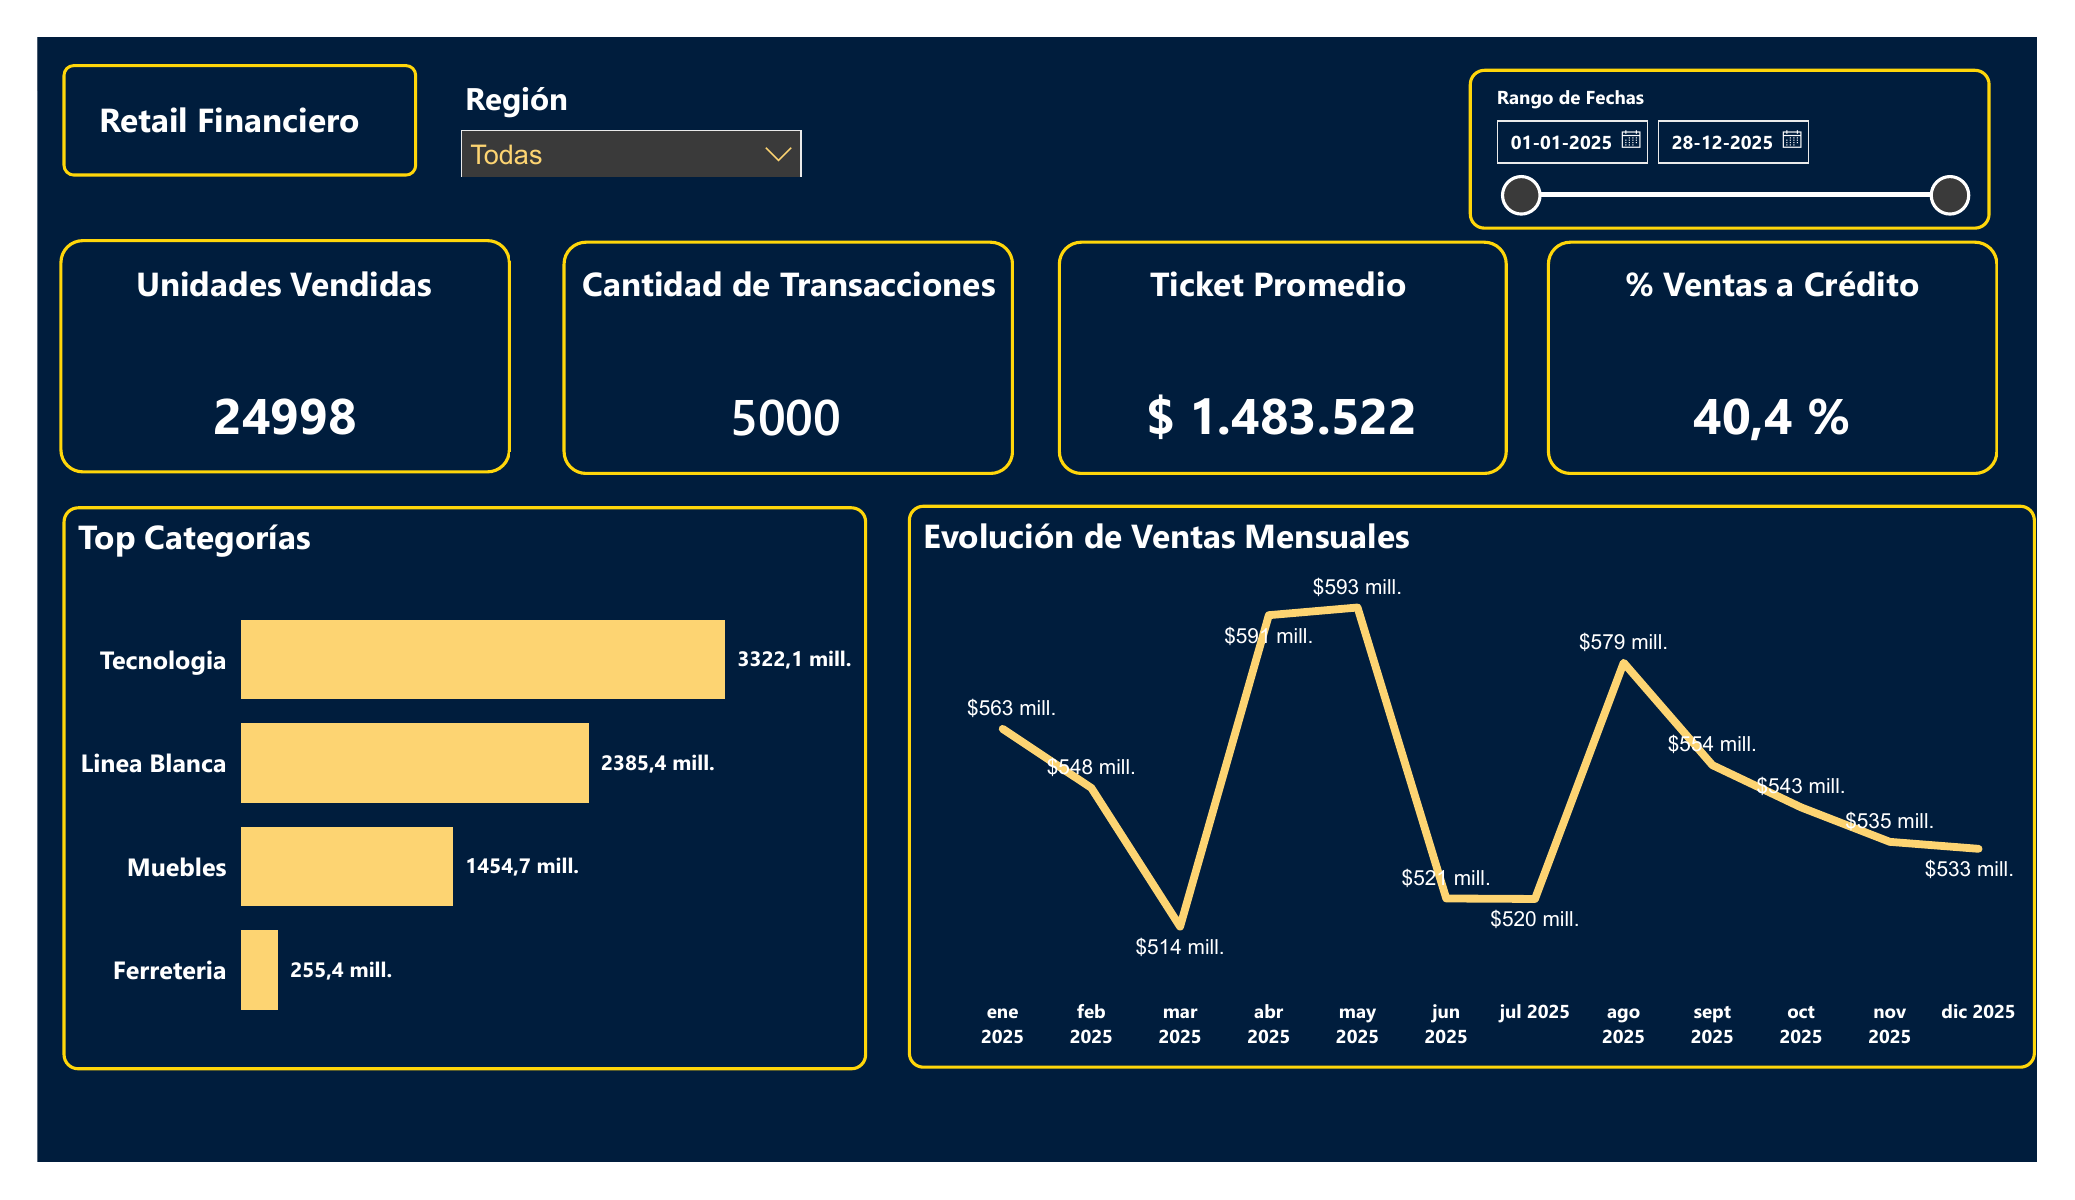

The dashboard page shown, as its layout file describes it:
{"tool":"powerbi","page":{"name":"Detalle de Ventas","canvas":[1280,720],"ordinal":1},"visuals":[{"type":"slicer","fields":{"Values":["retail_financiero locales.region"]},"box":[261.4,20.3,237.9,68.9],"z":0},{"type":"shape","box":[965.5,129.6,289,149.8],"z":0,"group":"g4"},{"type":"shape","box":[15.7,17.2,227,72],"z":1000},{"type":"textbox","box":[28.2,32.9,189.4,43.8],"z":2000},{"type":"group","id":"g1","title":"Grupo 1","box":[13.9,128.9,288.9,150],"z":3000},{"type":"group","id":"g2","title":"Grupo 2","box":[336.4,130,288.9,150],"z":4000},{"type":"shape","box":[652.5,129.6,288.1,149.8],"z":4500,"group":"g3"},{"type":"group","id":"g3","title":"Grupo 3","box":[652.5,129.6,288.1,149.8],"z":5000},{"type":"shape","box":[13.9,128.9,288.9,150],"z":5500,"group":"g1"},{"type":"group","id":"g4","title":"Grupo 4","box":[965.5,129.6,289,149.8],"z":6000},{"type":"slicer","fields":{"Values":["Calendario.Date"]},"box":[915.8,20.2,334.5,102.7],"z":7000},{"type":"cardVisual","fields":{"Data":["_Medidas.ticket promedio"]},"box":[677.5,199.7,238.1,79.7],"z":8000},{"type":"cardVisual","fields":{"Data":["Sum(retail_financiero detalle_transacciones.cantidad)"]},"box":[76.7,199.2,163.2,79.7],"z":9000},{"type":"shape","box":[336.4,130,288.9,150],"z":9500,"group":"g2"},{"type":"cardVisual","fields":{"Data":["_Medidas.Cantidad de Transacciones"]},"box":[394,200.3,170,79.7],"z":10000},{"type":"cardVisual","fields":{"Data":["_Medidas.% Ventas a Crédito"]},"box":[1013.2,199.2,193.7,80.2],"z":11000},{"type":"textbox","box":[52.2,137.8,212.2,52.2],"z":12000},{"type":"textbox","box":[332,138.3,297.7,51.9],"z":13000},{"type":"textbox","box":[667.8,137.8,257.8,52.2],"z":14000},{"type":"textbox","box":[1001.6,138.3,217,51.9],"z":15000},{"type":"clusteredBarChart","title":"Top Categorías","fields":{"Category":["retail_financiero productos.categoria"],"Y":["_Medidas.Total Vendido Por Categoría"]},"box":[15.6,300,515.6,361.1],"z":16000},{"type":"lineChart","title":"Evolución de Ventas Mensuales","fields":{"Y":["Sum(retail_financiero vw_transacciones_limpias.monto_total)"],"Category":["Calendario.MesAño"]},"box":[557,299.1,721.9,361],"z":17000}]}

Visuals, with their boxes on the page's 1280x720 design canvas (x1, y1, x2, y2). These are canvas units, not pixel positions in the 2075x1200 screenshot, which may show the page scaled, cropped or inside an application window:
slicer - retail_financiero locales.region: bbox=[261, 20, 499, 89]
shape: bbox=[966, 130, 1254, 279]
shape: bbox=[16, 17, 243, 89]
textbox: bbox=[28, 33, 218, 77]
"Grupo 1" group: bbox=[14, 129, 303, 279]
"Grupo 2" group: bbox=[336, 130, 625, 280]
shape: bbox=[652, 130, 941, 279]
"Grupo 3" group: bbox=[652, 130, 941, 279]
shape: bbox=[14, 129, 303, 279]
"Grupo 4" group: bbox=[966, 130, 1254, 279]
slicer - Calendario.Date: bbox=[916, 20, 1250, 123]
cardVisual - _Medidas.ticket promedio: bbox=[678, 200, 916, 279]
cardVisual - Sum(retail_financiero detalle_transacciones.cantidad): bbox=[77, 199, 240, 279]
shape: bbox=[336, 130, 625, 280]
cardVisual - _Medidas.Cantidad de Transacciones: bbox=[394, 200, 564, 280]
cardVisual - _Medidas.% Ventas a Crédito: bbox=[1013, 199, 1207, 279]
textbox: bbox=[52, 138, 264, 190]
textbox: bbox=[332, 138, 630, 190]
textbox: bbox=[668, 138, 926, 190]
textbox: bbox=[1002, 138, 1219, 190]
"Top Categorías" clusteredBarChart: bbox=[16, 300, 531, 661]
"Evolución de Ventas Mensuales" lineChart: bbox=[557, 299, 1279, 660]
